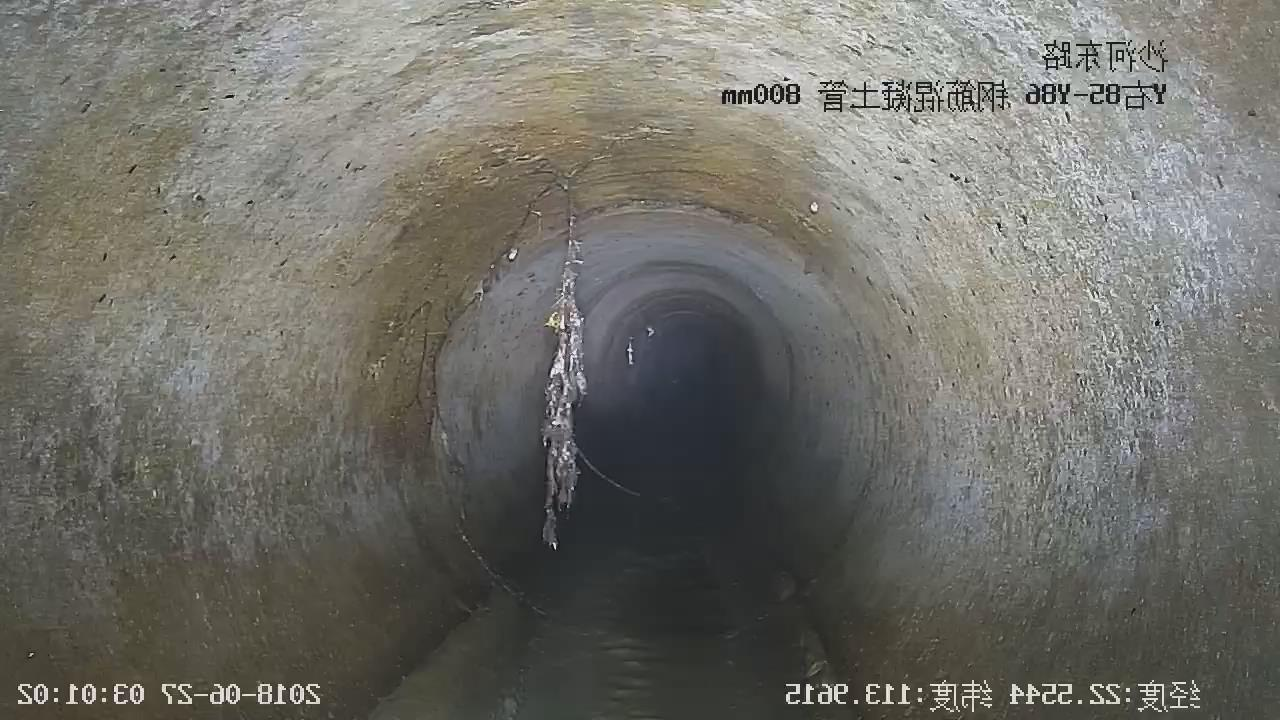SG: (542, 172, 640, 549)
